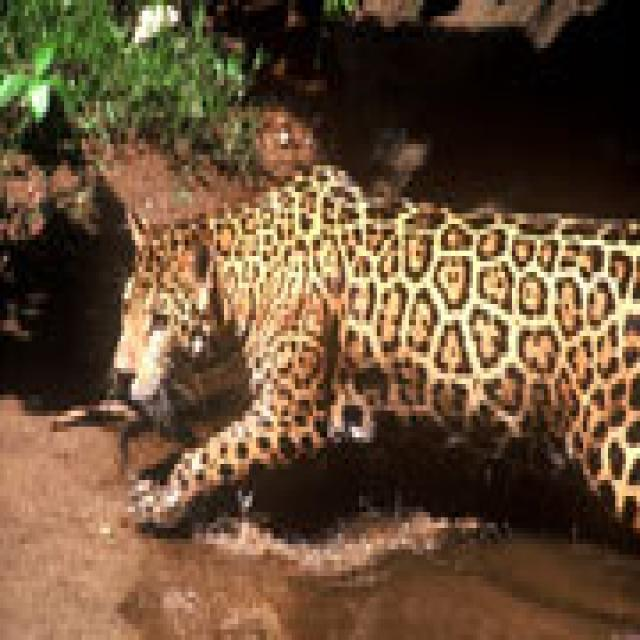Leopard: (107, 165, 633, 523)
